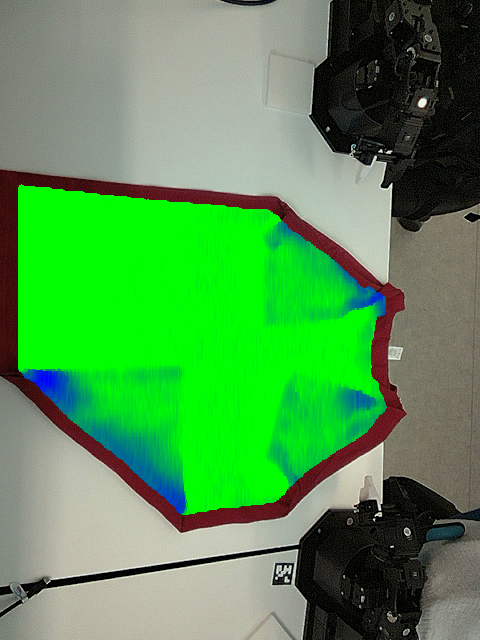V: (148, 350, 198, 396), (275, 362, 324, 405), (256, 432, 303, 475), (248, 293, 300, 331)
